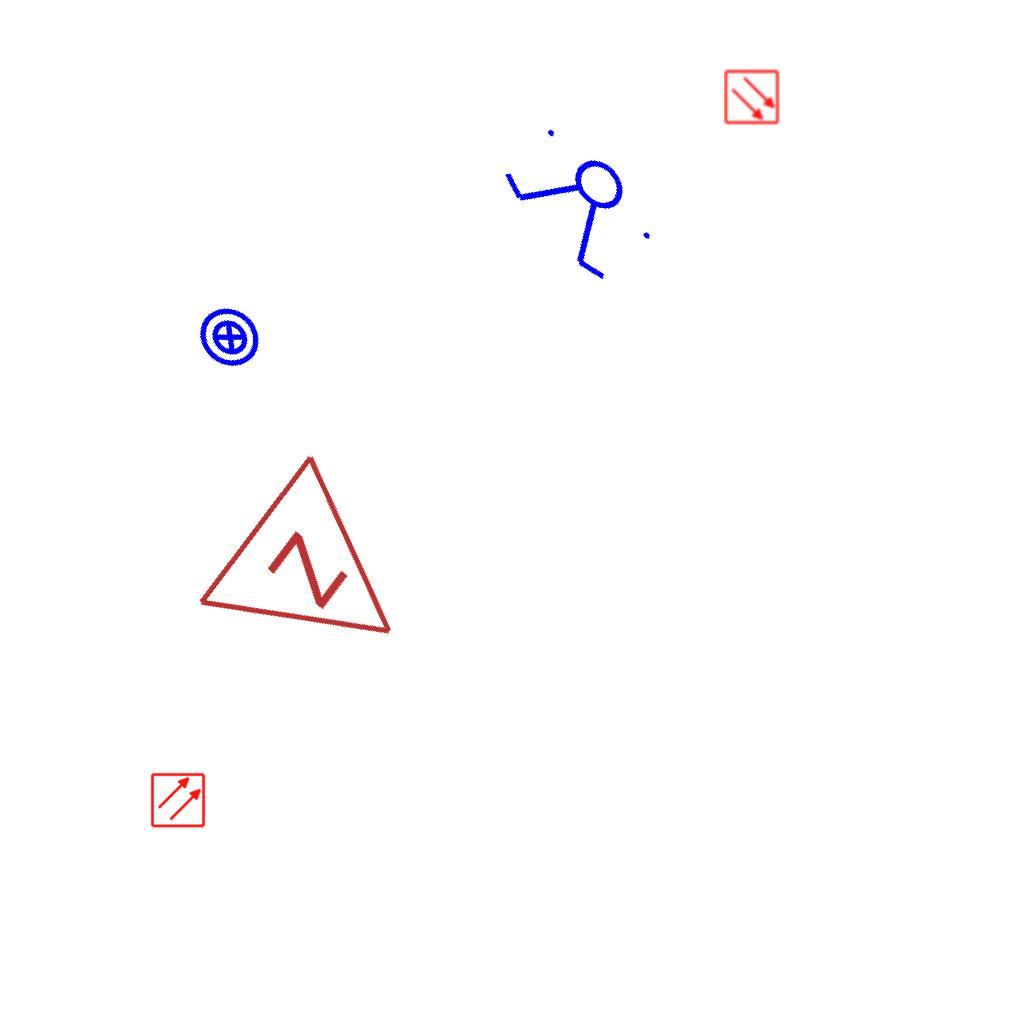RMO_Rauchmelder_optischer: (150, 772, 206, 828), (724, 69, 780, 125)
Serienschalter: (488, 108, 674, 298)
Taster_beleuchtet: (183, 290, 277, 384)
Zimmersignalleuchte: (184, 439, 462, 717)
